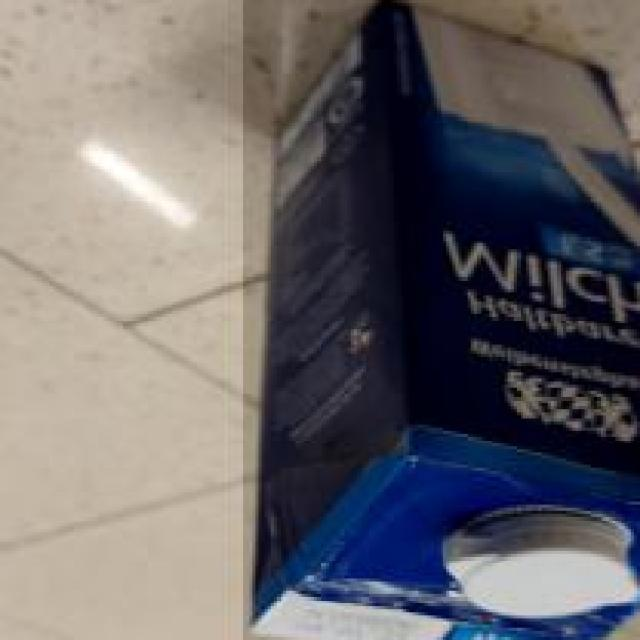milk: (243, 0, 640, 640)
